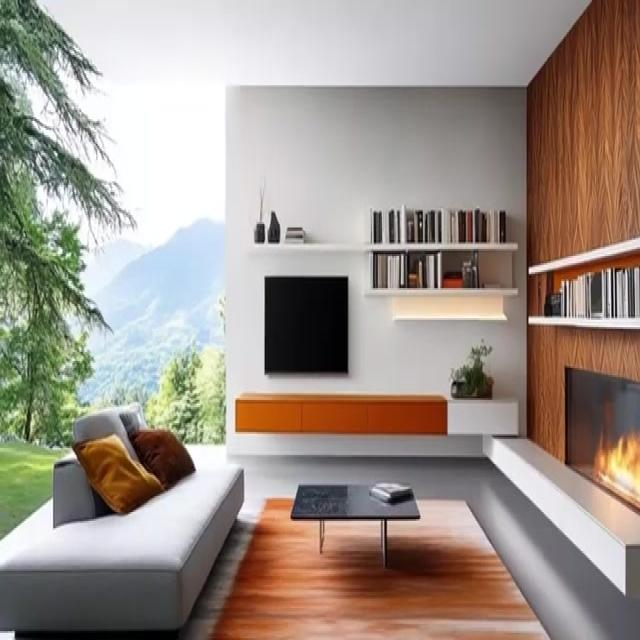obstacle: (0, 400, 244, 638), (290, 482, 420, 567)
